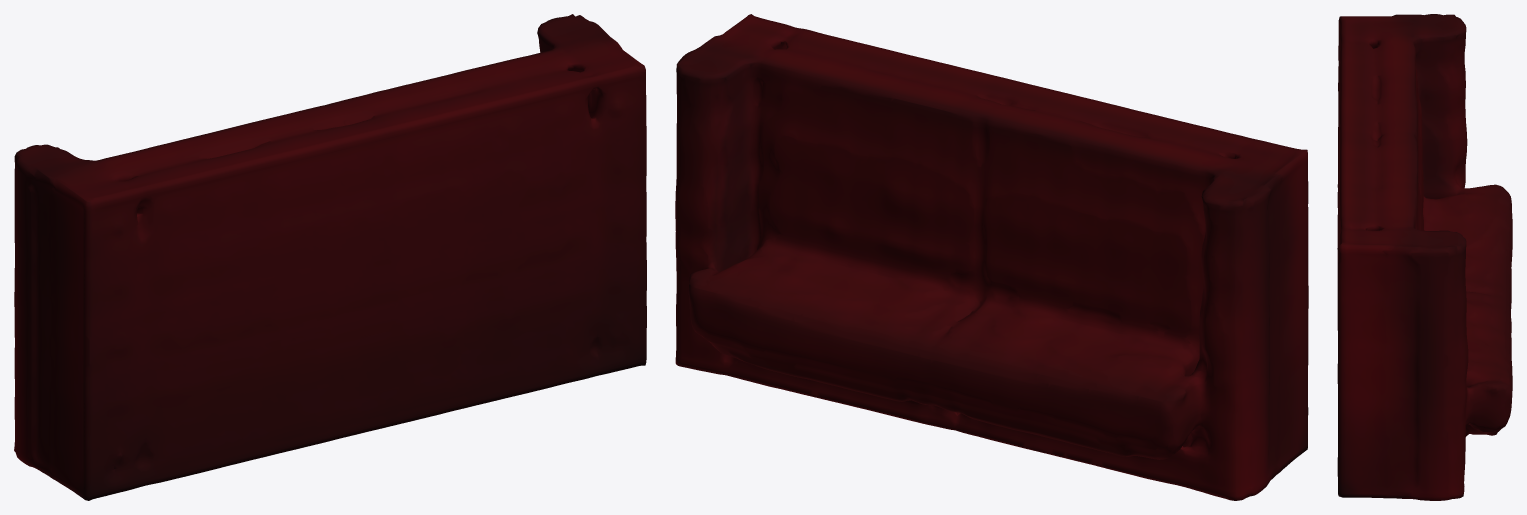
File: Red_Sofa.FBX
The picture shows the model from 3 angles, left to right: view 1: azimuth 30°, elevation 25°; view 2: azimuth 150°, elevation 25°; view 3: azimuth 270°, elevation 25°; orthographic projection. The views are drawn at different scales.
Parts seen in each view (by area): view 1: plyFile; view 2: plyFile; view 3: plyFile.
Part boxes in pixels (left/top/right/bottom): plyFile: left=14, top=14, right=646, bottom=500; plyFile: left=675, top=14, right=1308, bottom=500; plyFile: left=1337, top=14, right=1512, bottom=500.
Bounding box in the file's own units: 198 × 98.15 × 61.85.
